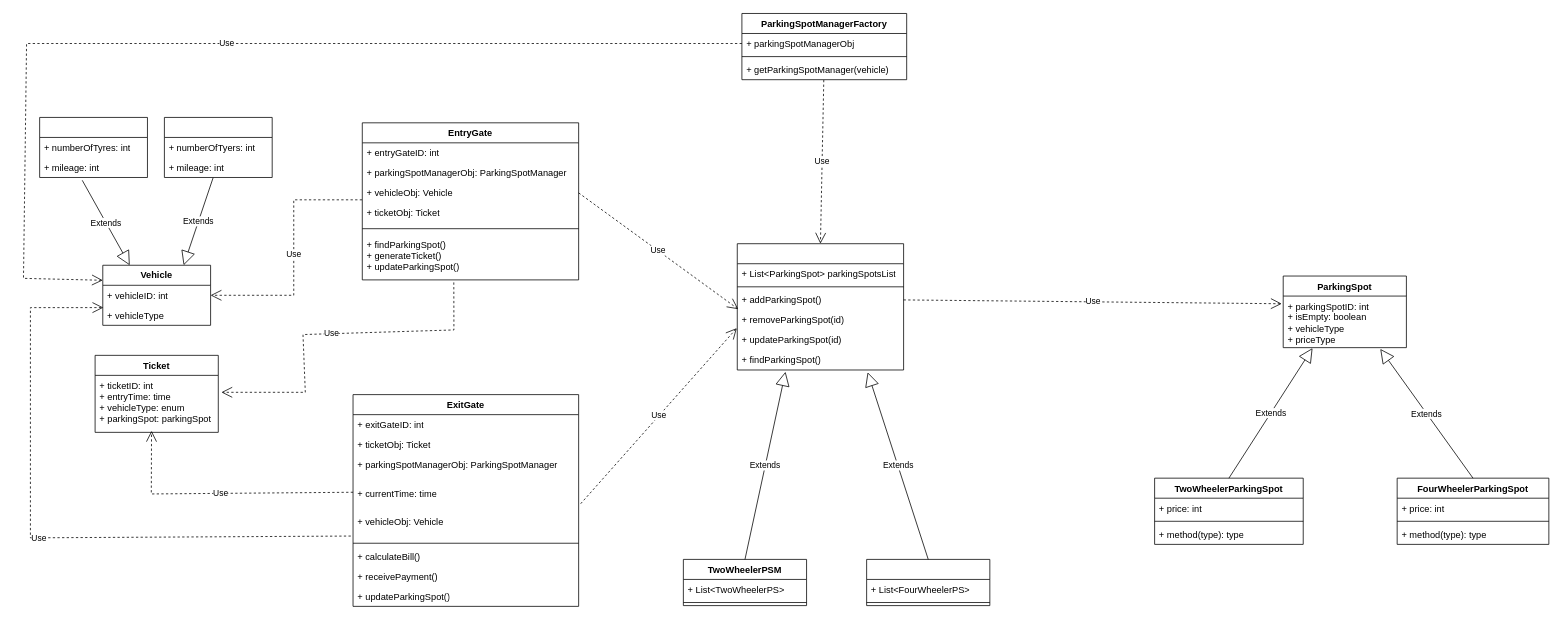
The diagram is 1562 pixels wide and 622 high, and some of its shapes have lost their labels. The box of each missing label's shape, as (x1, y1, x2, y2) in pixels:
FourWheeler: (164, 117, 272, 177)
FourWheelerPSM: (866, 559, 990, 606)
ParkingSpotManager: (737, 243, 904, 370)
TwoWheeler: (39, 117, 147, 177)
